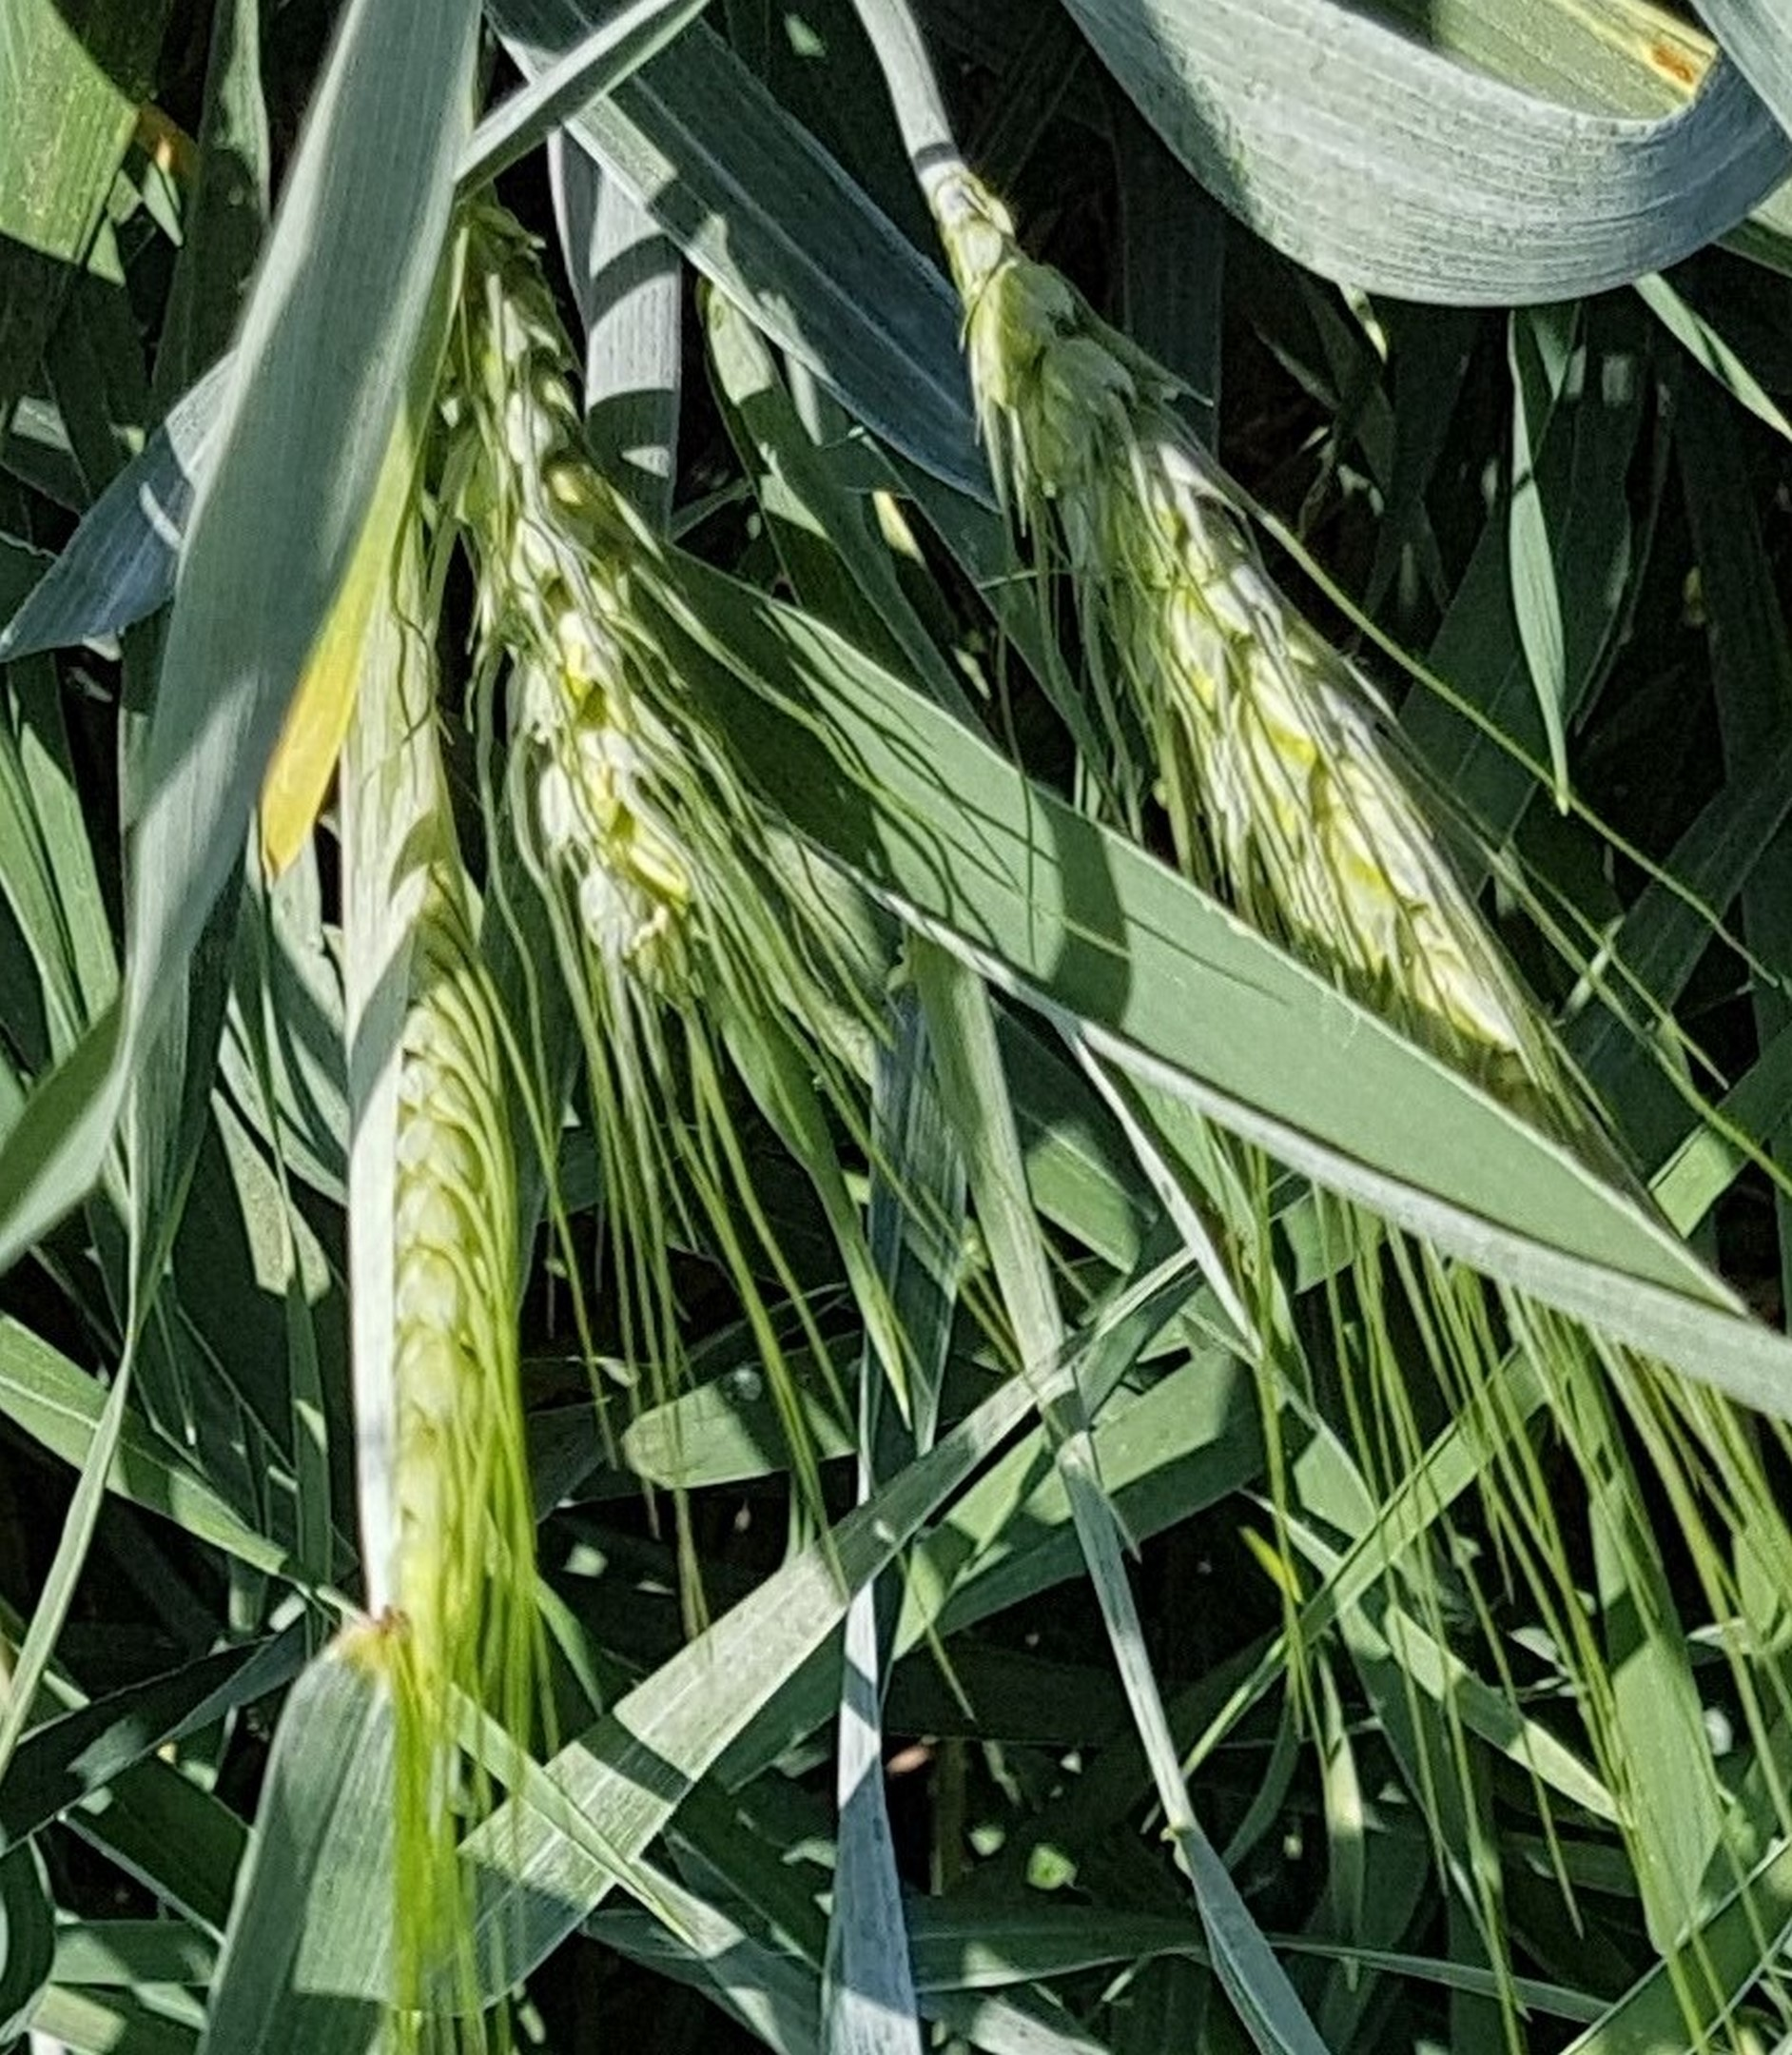Healthy Wheat: (941, 218, 1577, 1117), (412, 204, 772, 1019)
